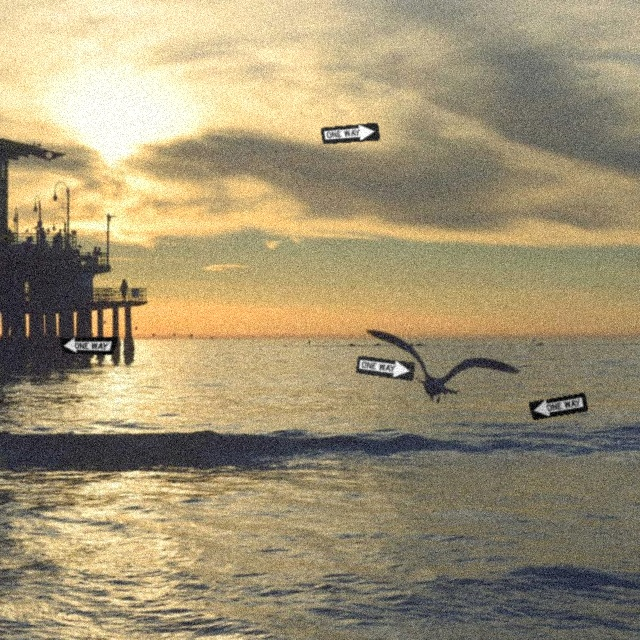ONE_WAY_ left: (528, 392, 588, 420), (58, 336, 118, 355)
ONE_WAY_ right: (355, 355, 415, 381), (320, 122, 380, 144)
